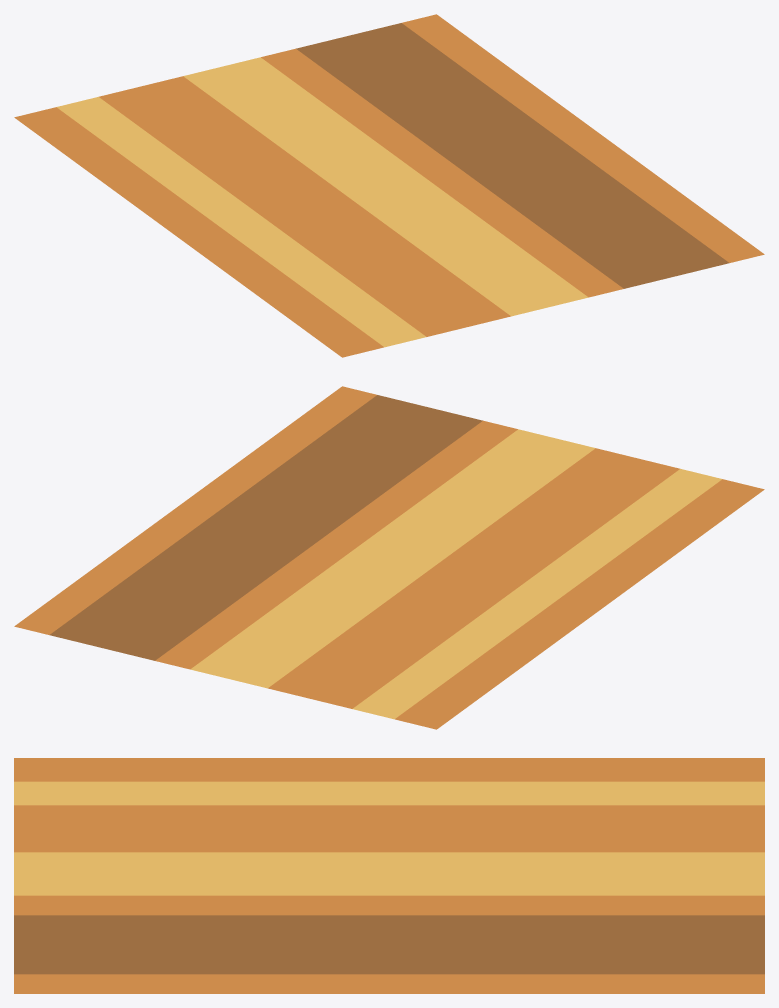
The model's file is Chão.fbx.
3 views of the same model, one above another, from view 1: azimuth 30°, elevation 25°; view 2: azimuth 150°, elevation 25°; view 3: azimuth 270°, elevation 25° (orthographic). The views are drawn at different scales.
Parts seen in each view (by area): view 1: Cylinder; view 2: Cylinder; view 3: Cylinder.
Part boxes in pixels (x1=…): Cylinder: x1=14, y1=14, x2=764, y2=357; Cylinder: x1=14, y1=386, x2=764, y2=729; Cylinder: x1=14, y1=758, x2=764, y2=993.
Bounding box in the file's own units: 149 × 3.26e-05 × 200.
